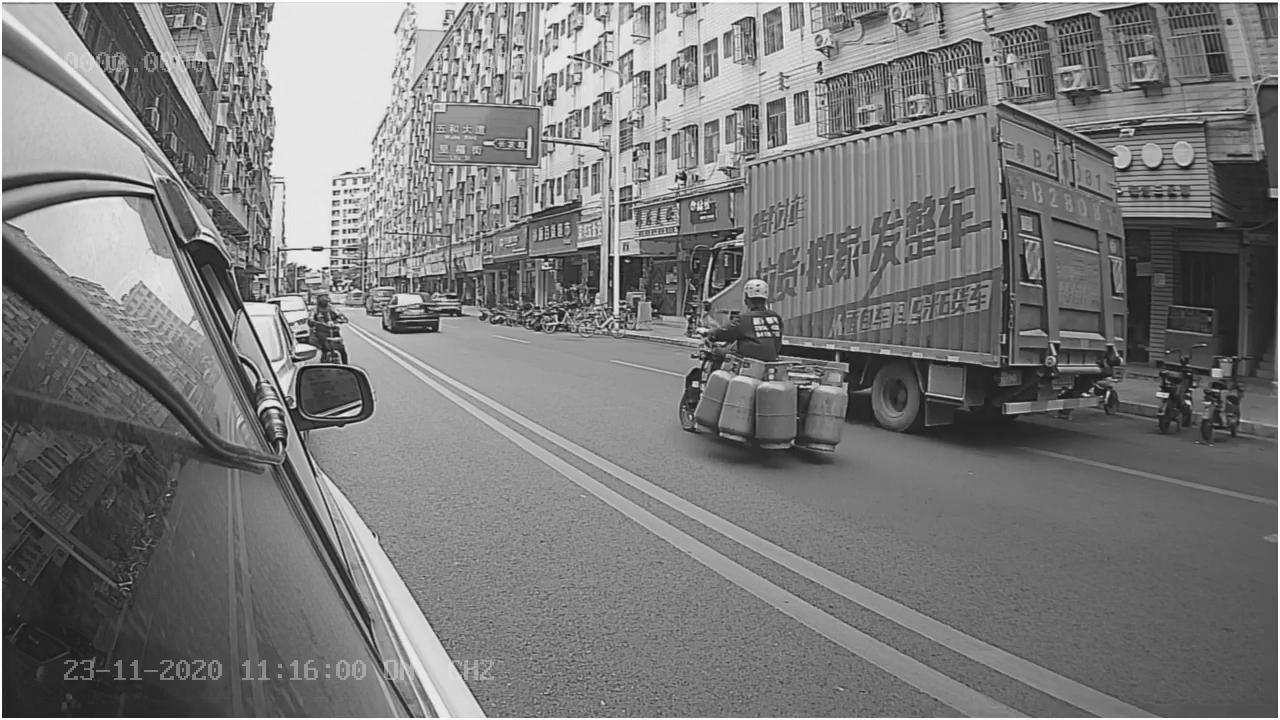person: (717, 275, 788, 354)
